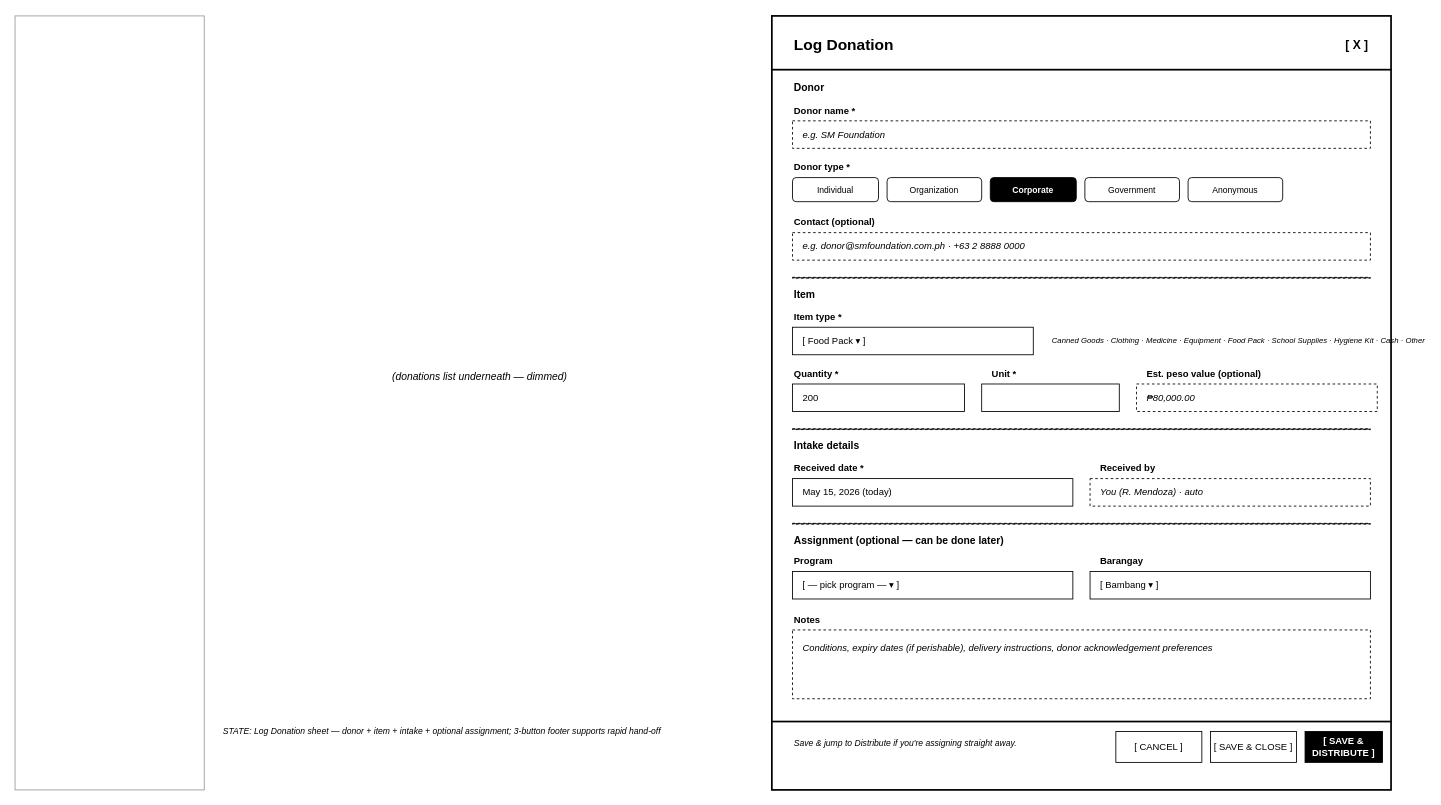
This 1441x805 diagram has some shape labels left out. Here are the shapes that lost their labels. From the top down, the centre of each, then its label:
At (109,402): "AGAPE".
At (1050,397): "[ boxes ▾ ]".
